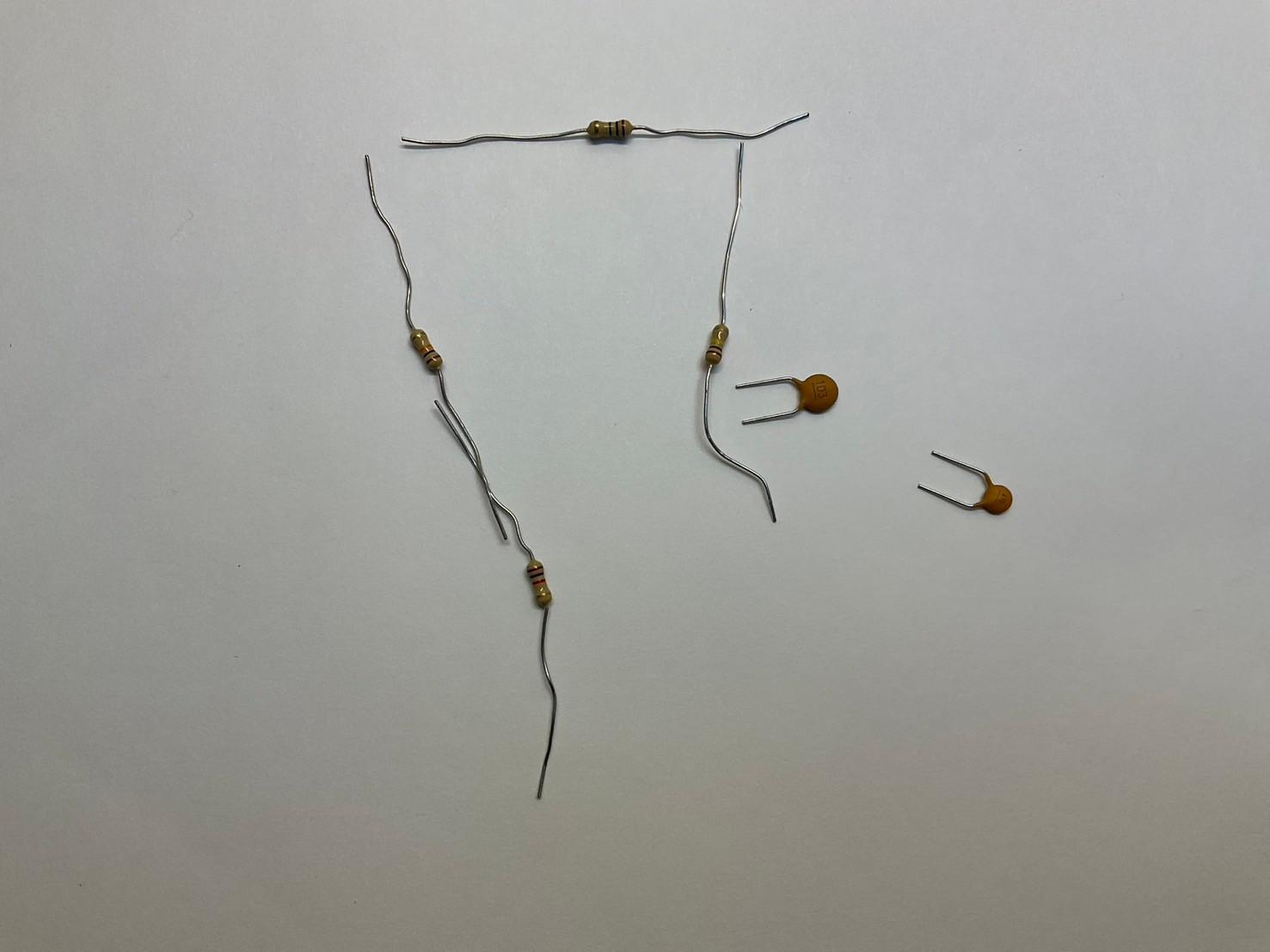resistor: (408, 326, 446, 373), (526, 558, 555, 610), (587, 118, 634, 140), (705, 323, 729, 366)
